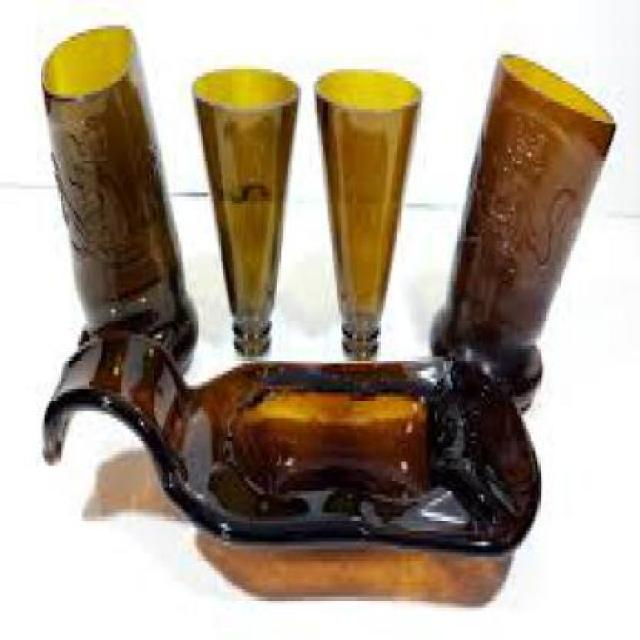kaca: (40, 320, 540, 603), (426, 50, 614, 408), (40, 22, 197, 370), (189, 66, 297, 357), (312, 66, 418, 352)
